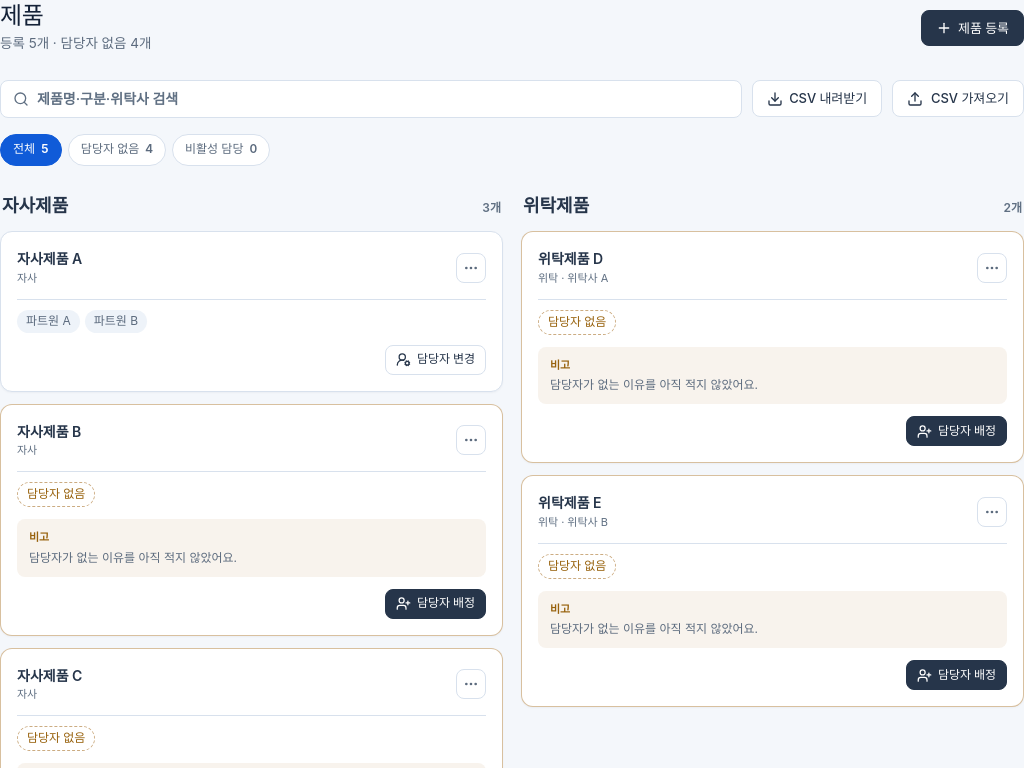
Test: ProductMasterPanel › replaces only the chosen existing member on a product with multiple assignees
Click the button "담당자 변경" at coordinates (436, 360), box [385, 345, 486, 375]
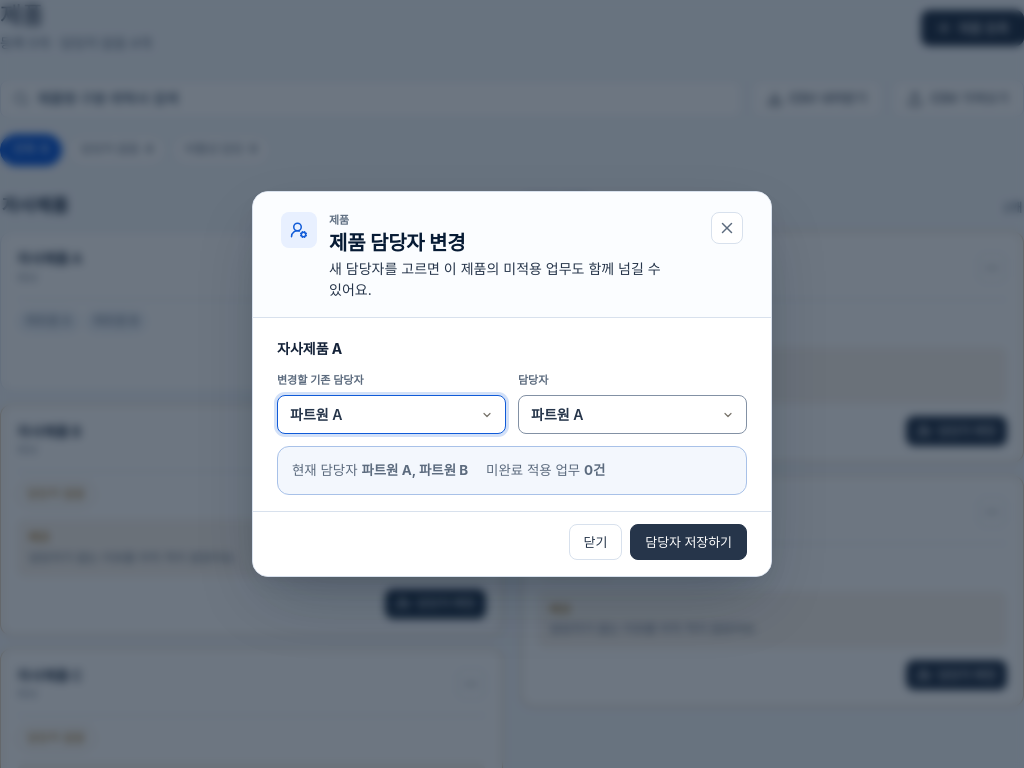
Select "파트원 B" in the dropdown labelled "변경할 기존 담당자" at coordinates (392, 415), box [277, 395, 506, 434]
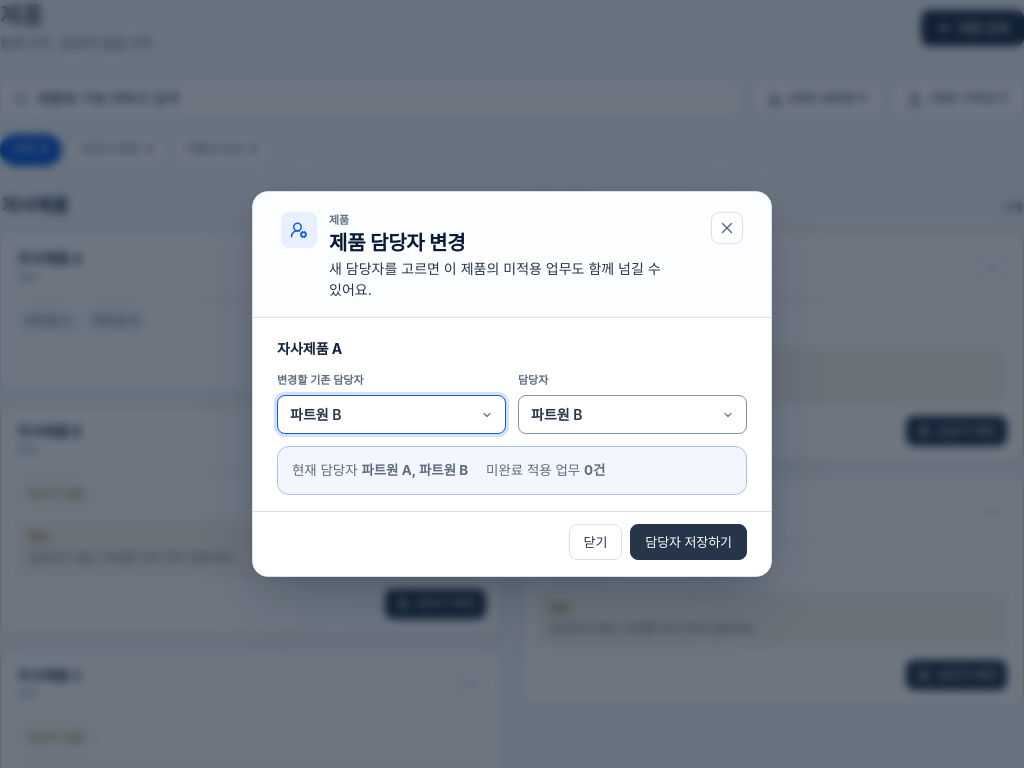
Select "파트원 C" in the dropdown labelled "담당자" at coordinates (632, 415), box [518, 395, 747, 434]
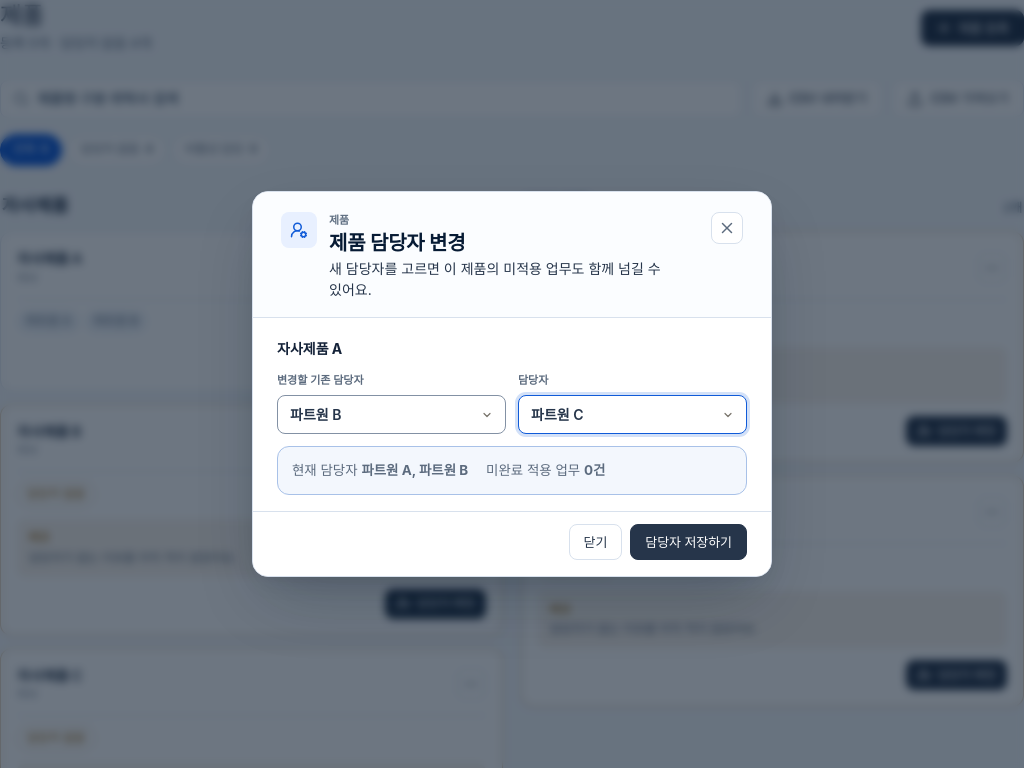
Click the button "담당자 저장하기" at coordinates (689, 542), box [630, 524, 747, 560]
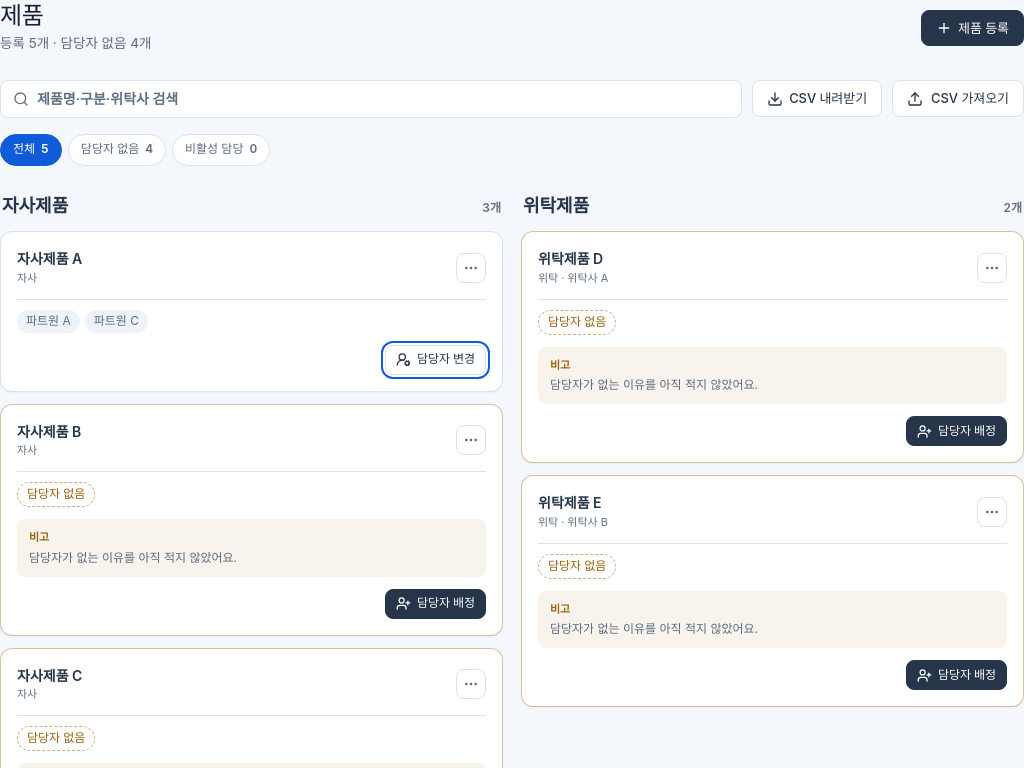
Expected: the text "파트원 A" is shown, [17, 310, 80, 333]
Result: the text "파트원 C" is shown at [85, 310, 148, 333]
Result: the text "파트원 B" is gone
